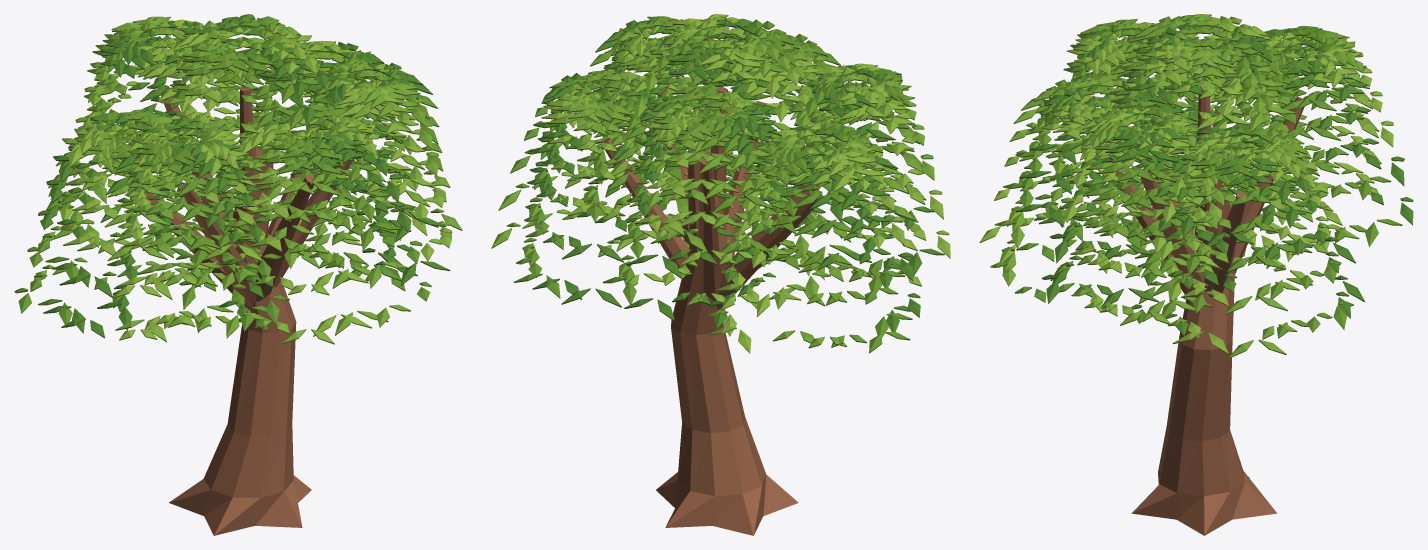
3 views of the same model, side by side, from view 1: azimuth 30°, elevation 25°; view 2: azimuth 150°, elevation 25°; view 3: azimuth 270°, elevation 25° (orthographic).
Visible parts, largest first — view 1: tree-chunky-drooping; view 2: tree-chunky-drooping; view 3: tree-chunky-drooping.
Part boxes in pixels (x1,y1,x2,y2): tree-chunky-drooping: (14,14,462,535); tree-chunky-drooping: (491,14,950,535); tree-chunky-drooping: (979,14,1413,535).
Bounding box in the file's own units: 6.2 × 6.91 × 5.79.
